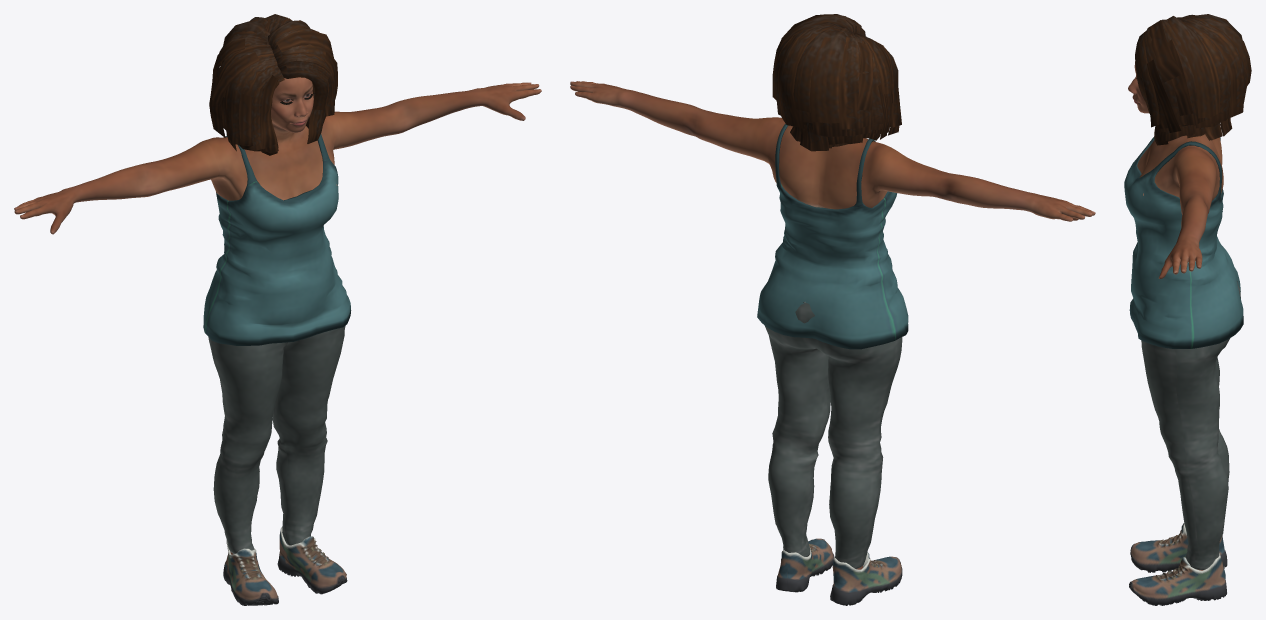
File: female_civ_v4.glb
The picture shows the model from 3 angles, left to right: view 1: azimuth 30°, elevation 25°; view 2: azimuth 150°, elevation 25°; view 3: azimuth 270°, elevation 25°; orthographic projection.
Parts seen in each view (by area): view 1: Object_3, Object_4, Object_2; view 2: Object_3, Object_4, Object_2; view 3: Object_3, Object_4, Object_2.
Boxes of the visible parts, <box> form: Object_3: <box>208,14,347,605</box>; Object_4: <box>203,94,351,345</box>; Object_2: <box>14,77,541,554</box>; Object_3: <box>765,14,902,605</box>; Object_4: <box>757,124,908,349</box>; Object_2: <box>570,81,1095,569</box>; Object_3: <box>1129,14,1251,605</box>; Object_4: <box>1124,136,1243,348</box>; Object_2: <box>1128,61,1223,570</box>.
Size of the model in its own units: 169 by 175 by 35.57.
Materials: 1 (1 with a texture image).
